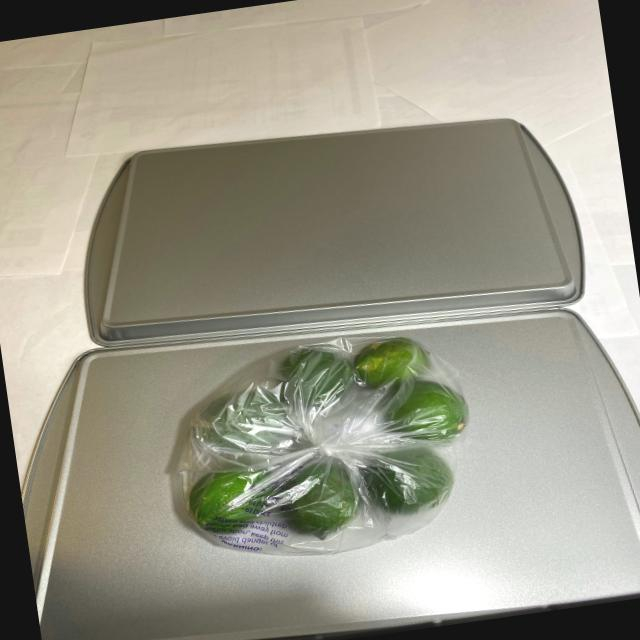lemon: (173, 328, 476, 548)
